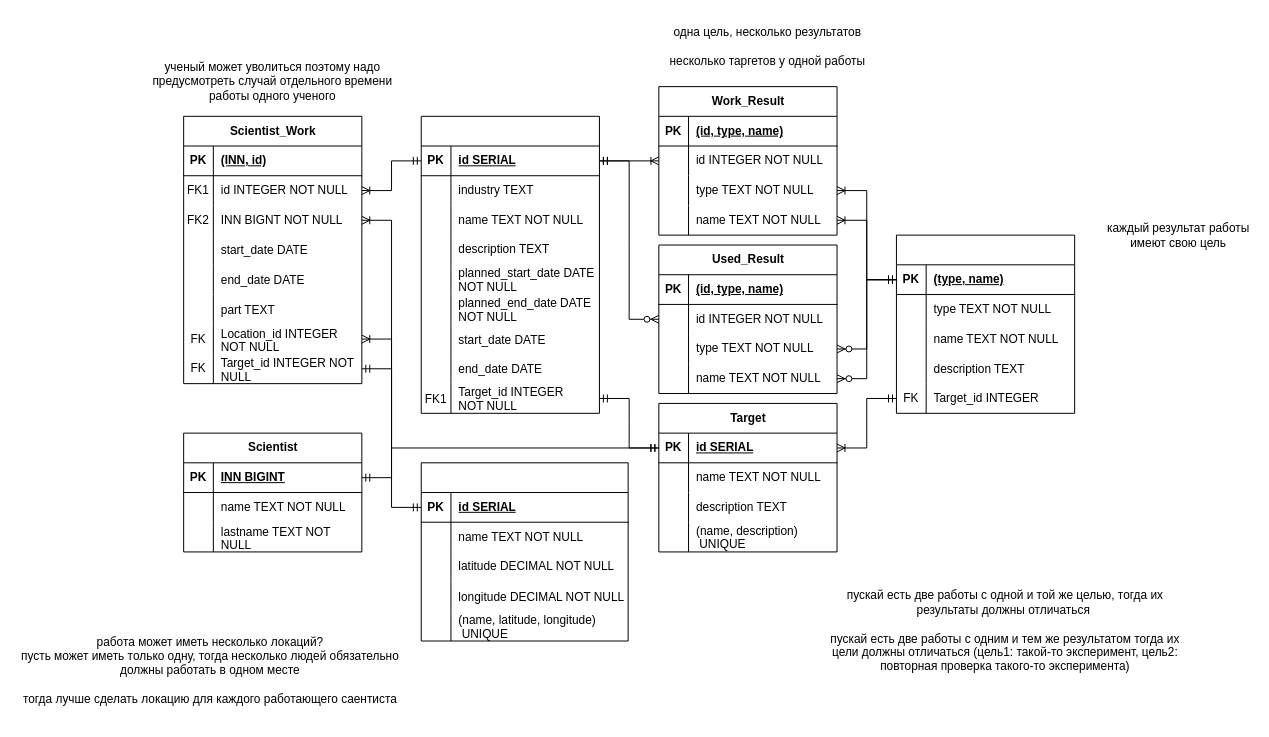
This 1269x737 diagram has some shape labels left out. Each missing label, with the box of its shape:
Location: (420, 462, 628, 641)
Result: (895, 234, 1075, 413)
Work: (420, 115, 599, 413)
